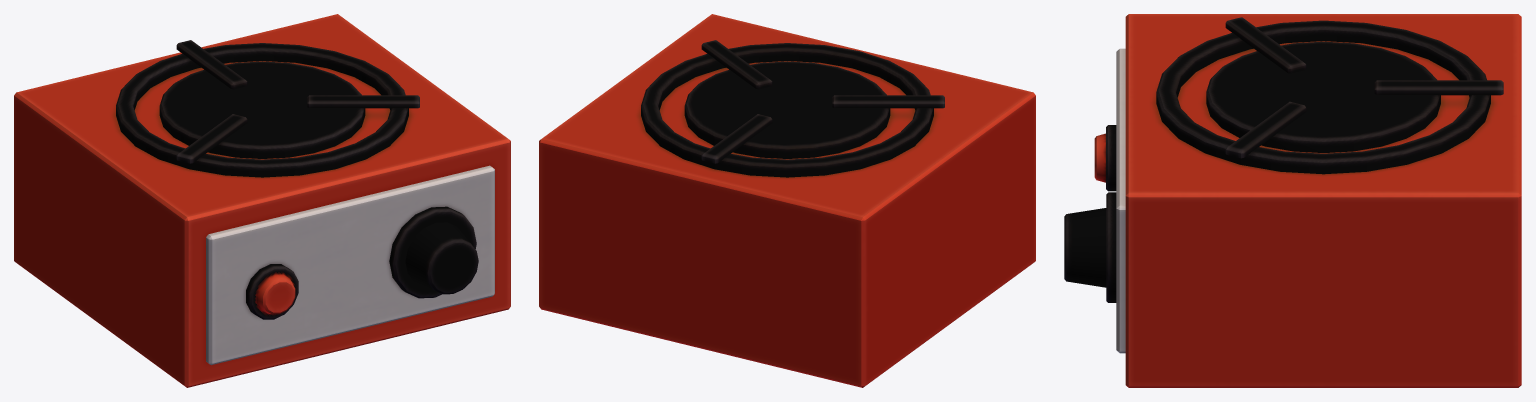
Rendered from gasStove.gltf.
3 views of the same model, side by side, from view 1: azimuth 30°, elevation 25°; view 2: azimuth 150°, elevation 25°; view 3: azimuth 270°, elevation 25° (orthographic). The views are drawn at different scales.
Parts seen in each view (by area): view 1: 7.001; view 2: 7.001; view 3: 7.001.
Part boxes in pixels (left/top/right/bottom): 7.001: left=14, top=14, right=510, bottom=387; 7.001: left=539, top=14, right=1035, bottom=387; 7.001: left=1064, top=14, right=1521, bottom=387.
Bounding box in the file's own units: 2 × 1.1 × 2.13.
1 material, 1 textured.
